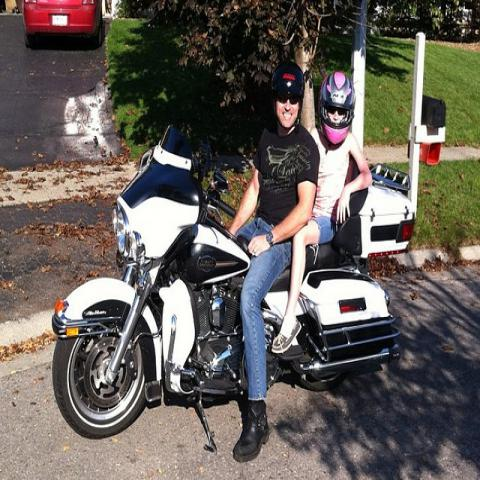car: (22, 0, 104, 52)
motorcycle: (54, 124, 418, 460)
